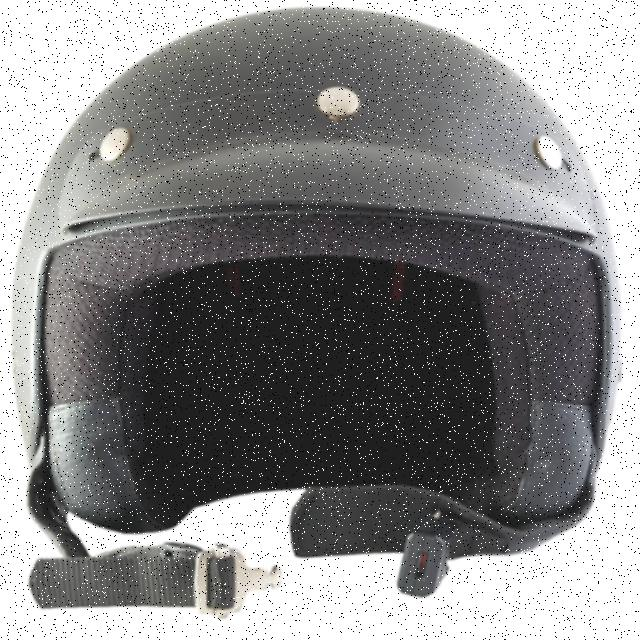with-helmet: (17, 1, 622, 624)
